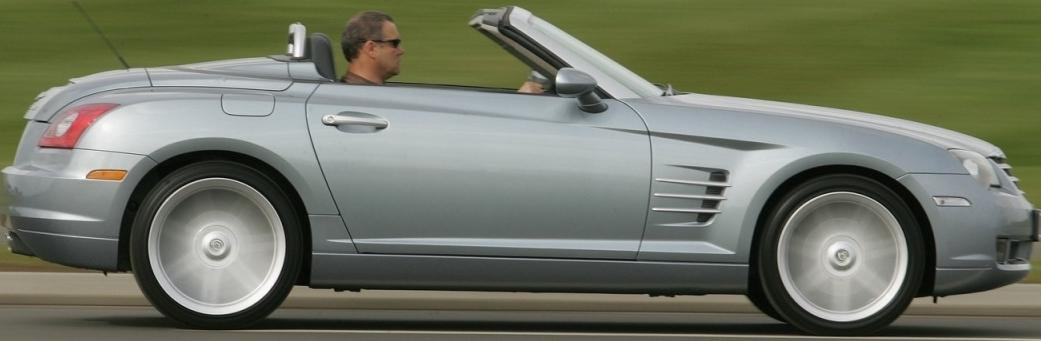backlight: (32, 91, 124, 162)
headlight: (931, 134, 1009, 196)
side_glass: (276, 4, 678, 118)
